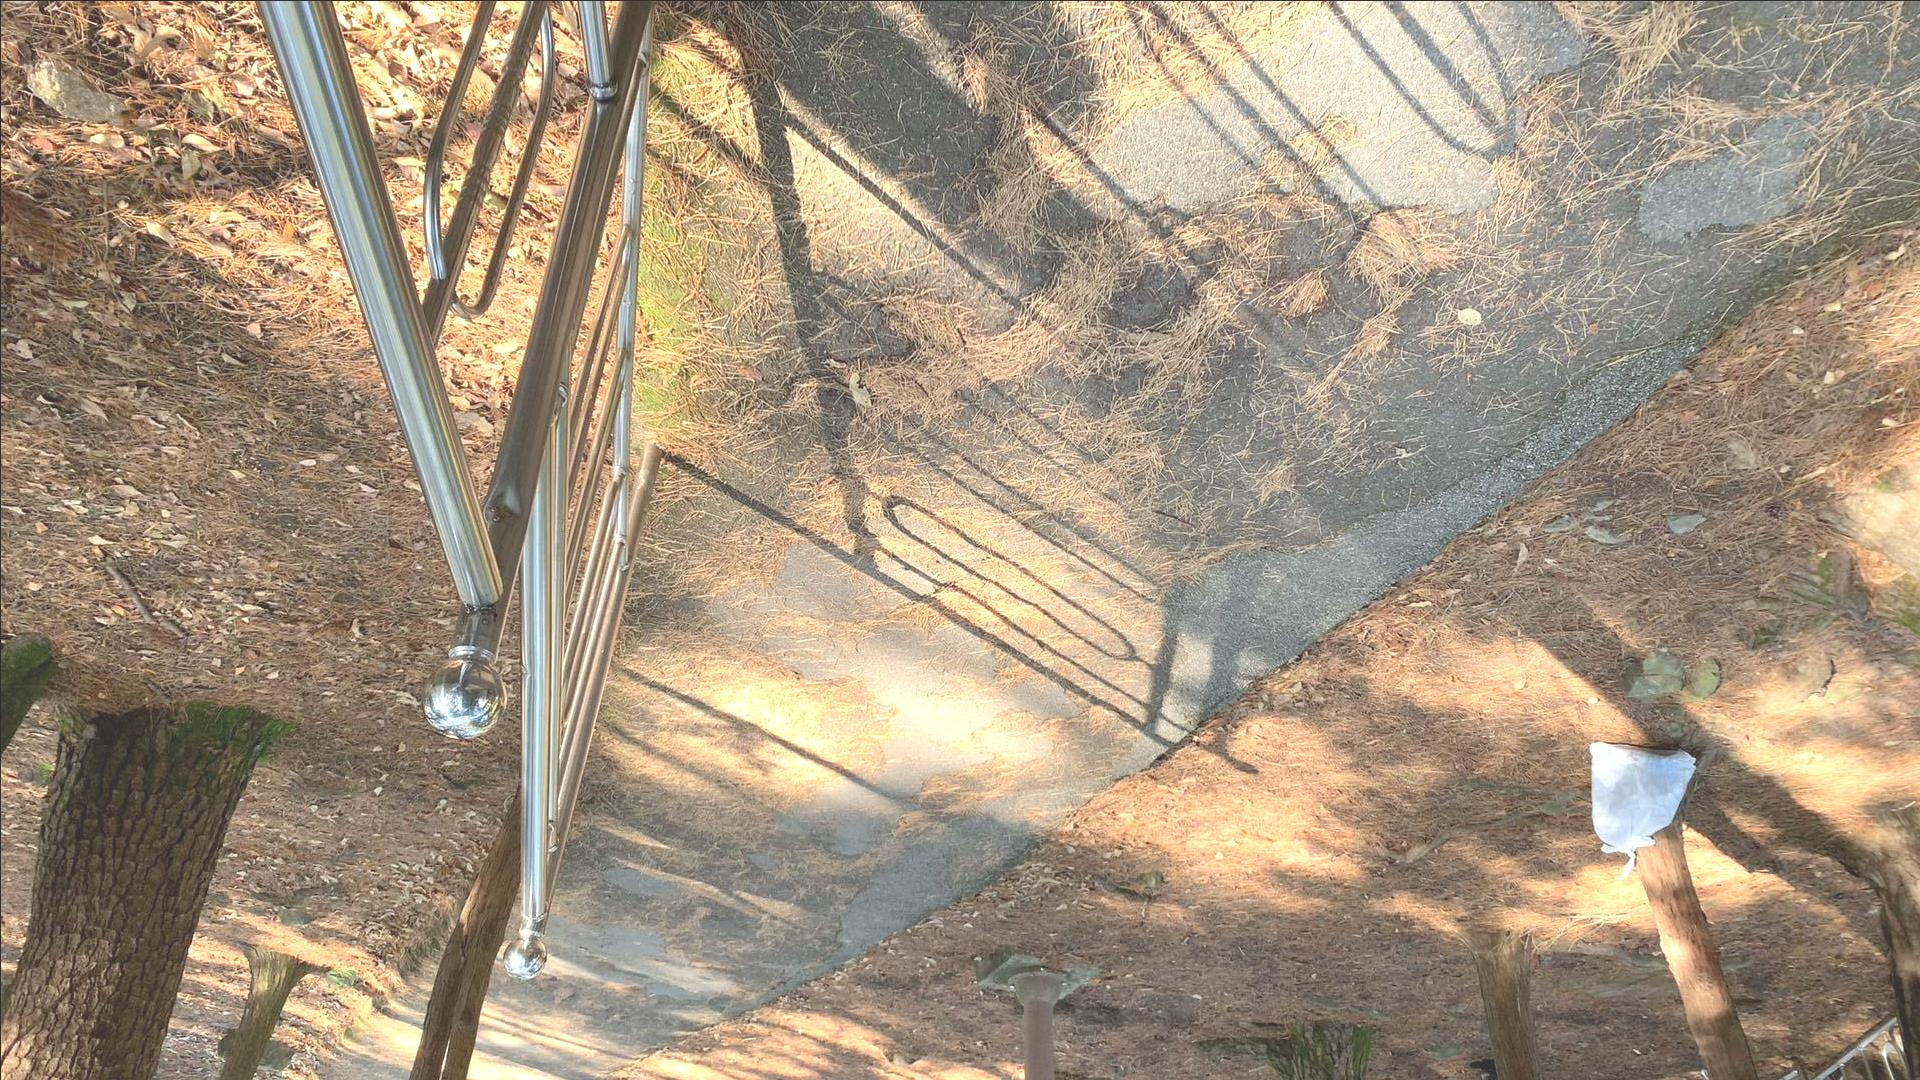white_bag: (1580, 732, 1706, 893)
